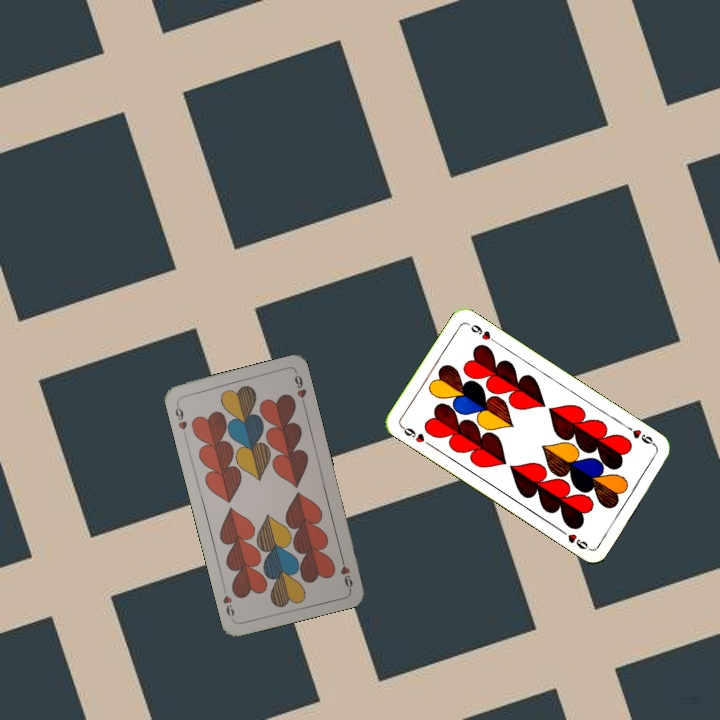H9: (622, 422, 658, 449), (397, 422, 434, 448), (171, 399, 190, 439), (336, 552, 355, 592)
